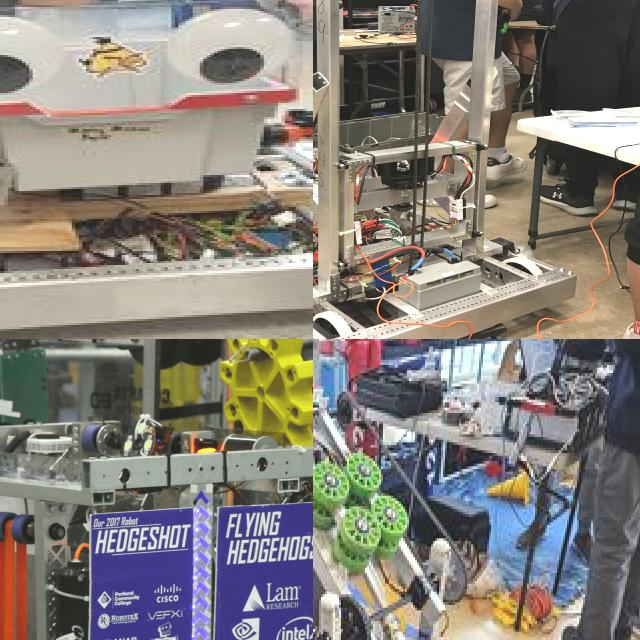FRC-Robots: (0, 0, 313, 327), (313, 0, 598, 339), (0, 339, 313, 640), (313, 341, 536, 640)
